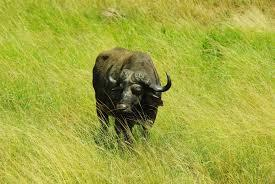Buffalo: (91, 53, 187, 178)
